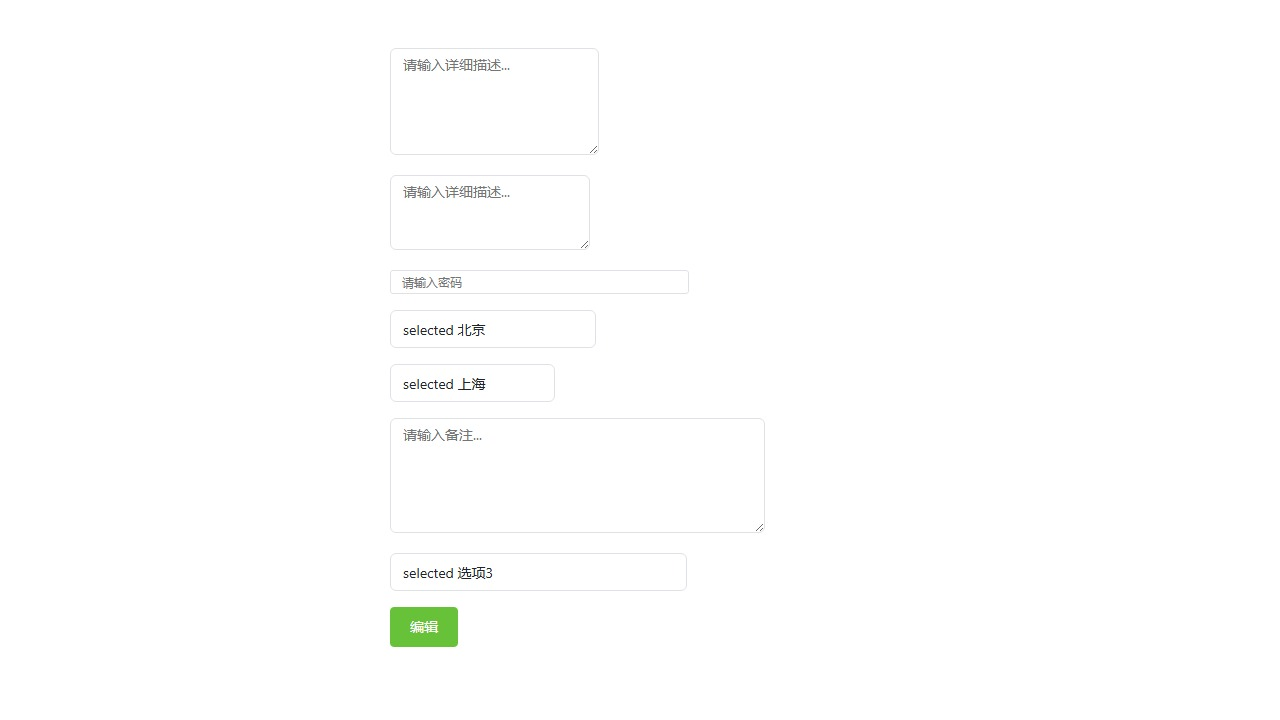button: (390, 607, 458, 647)
input: (390, 270, 689, 294)
select: (390, 553, 687, 591), (390, 310, 596, 348), (390, 364, 555, 402)
textarea: (390, 418, 765, 533), (390, 48, 599, 155), (390, 175, 590, 250)
